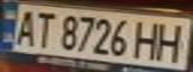2: (90, 15, 115, 56)
6: (109, 16, 136, 58)
7: (75, 14, 96, 54)
8: (54, 11, 81, 52)
A: (9, 7, 42, 47)
H: (151, 19, 190, 63), (130, 18, 166, 61)
T: (30, 9, 57, 48)
